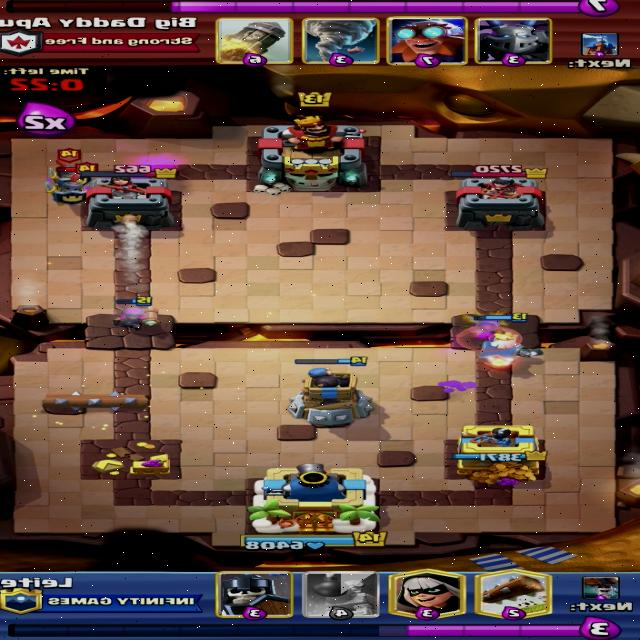Enemy-Guard: (45, 162, 100, 205), (47, 148, 92, 187)
Enemy-Log: (42, 390, 149, 412)
Player-BombTower: (288, 356, 373, 428)
Player-Firecracker: (112, 296, 158, 329)
Player-RoyalGhost: (473, 312, 541, 368)
